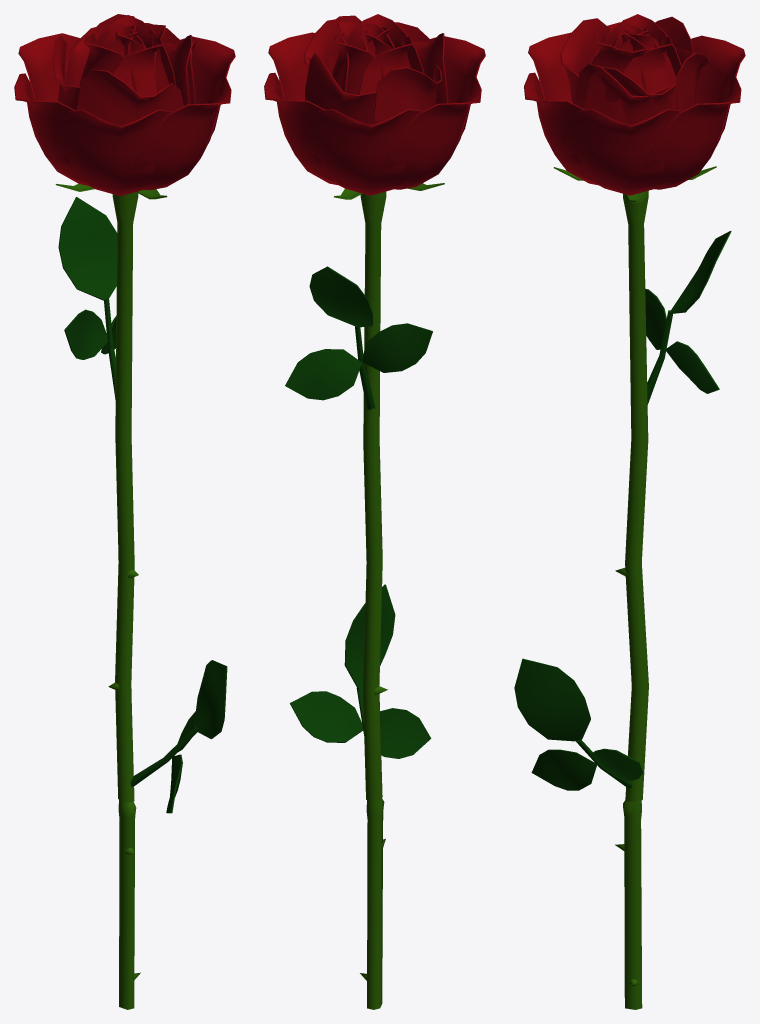
File: rose.fbx
3 renders of one model, left to right at view 1: azimuth 30°, elevation 25°; view 2: azimuth 150°, elevation 25°; view 3: azimuth 270°, elevation 25°, orthographic.
Visible parts, largest first — view 1: 玫瑰, 主体, 叶片2, 可修剪的枝条, 叶片1; view 2: 玫瑰, 主体, 叶片2, 叶片1, 可修剪的枝条; view 3: 玫瑰, 主体, 叶片1, 叶片2, 可修剪的枝条.
Part boxes in pixels (x1,y1,x2,y2): 玫瑰: [14, 14, 235, 196]; 主体: [55, 184, 167, 802]; 叶片2: [58, 197, 117, 401]; 可修剪的枝条: [118, 799, 140, 1009]; 叶片1: [130, 660, 227, 813]; 玫瑰: [264, 14, 485, 195]; 主体: [334, 183, 444, 801]; 叶片2: [285, 266, 432, 409]; 叶片1: [290, 584, 431, 758]; 可修剪的枝条: [360, 798, 385, 1009]; 玫瑰: [524, 14, 745, 195]; 主体: [553, 166, 716, 801]; 叶片1: [514, 658, 642, 790]; 叶片2: [645, 231, 731, 404]; 可修剪的枝条: [615, 800, 642, 1009].
Bounding box in the file's own units: 181 × 787 × 169.
